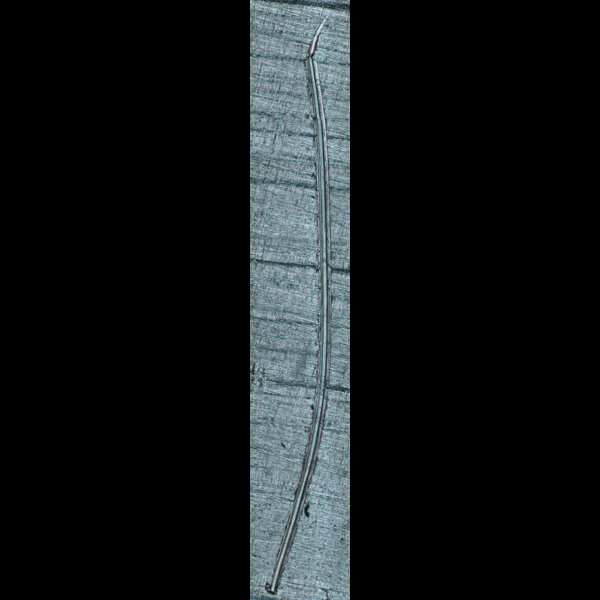d: (260, 11, 335, 596)
